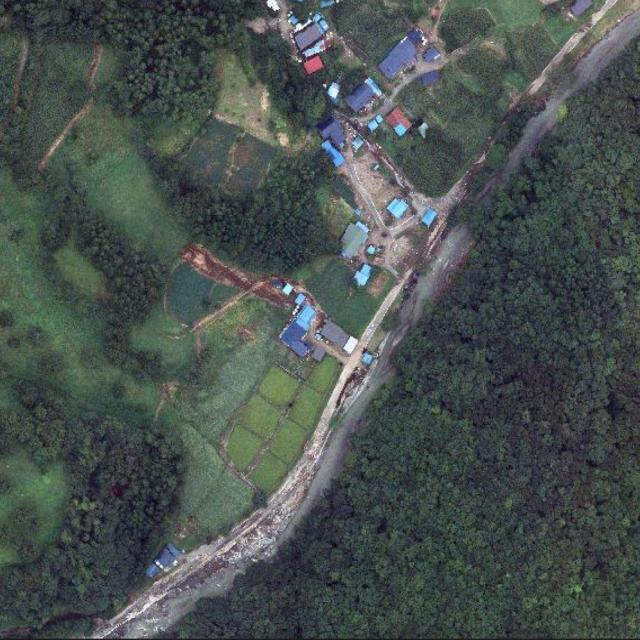landslide: (180, 244, 291, 305)
